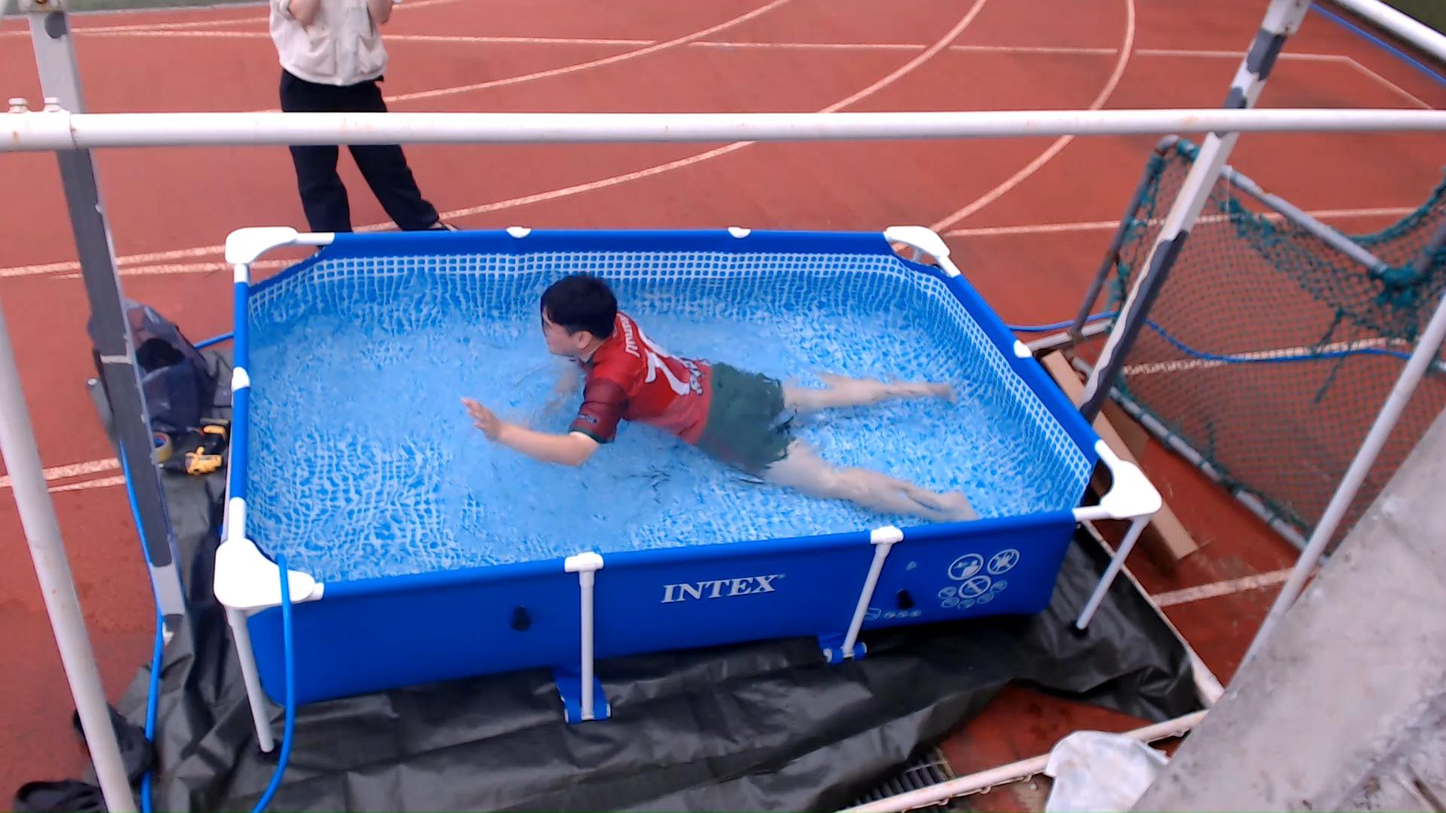Person-out-of-water: (247, 0, 502, 268)
Swimming: (431, 277, 994, 557)
